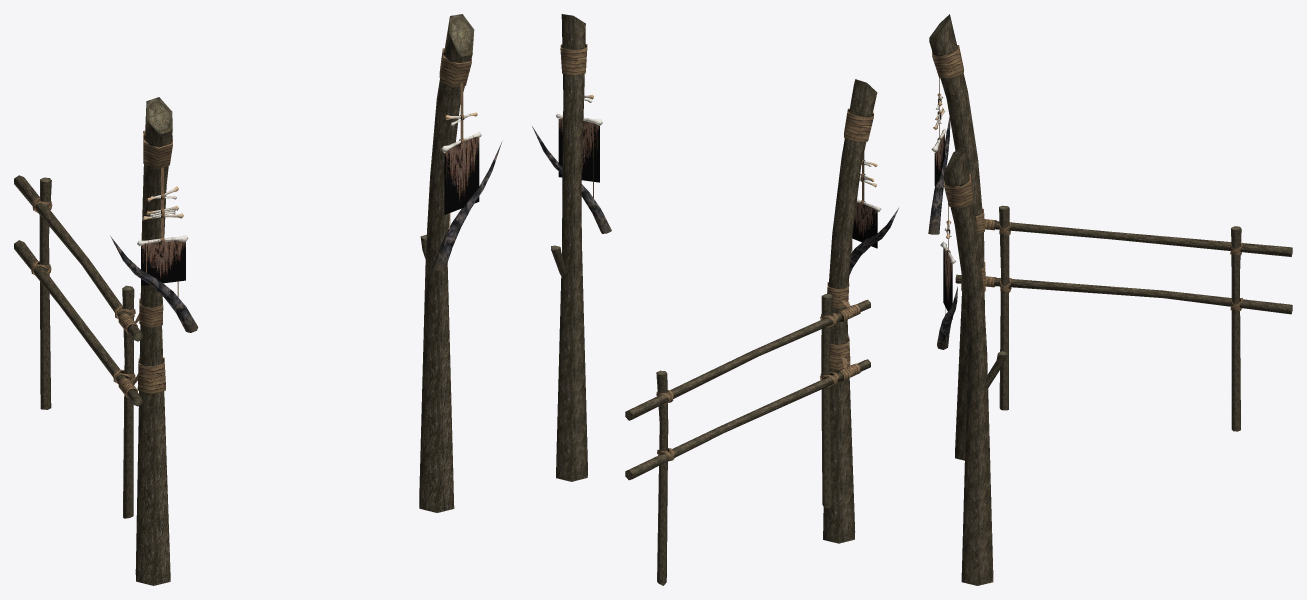
Rendered from thm_dant_gate_l0.fbx.
The picture shows the model from 3 angles, left to right: view 1: azimuth 30°, elevation 25°; view 2: azimuth 150°, elevation 25°; view 3: azimuth 270°, elevation 25°; orthographic projection. The views are drawn at different scales.
Visible parts, largest first — view 1: mesh_node; view 2: mesh_node; view 3: mesh_node.
Boxes of the visible parts, <box> form: mesh_node: <box>14,14,502,585</box>; mesh_node: <box>532,14,898,585</box>; mesh_node: <box>928,14,1292,585</box>.
Bounding box in the file's own units: 4.21 × 4.99 × 3.78.
